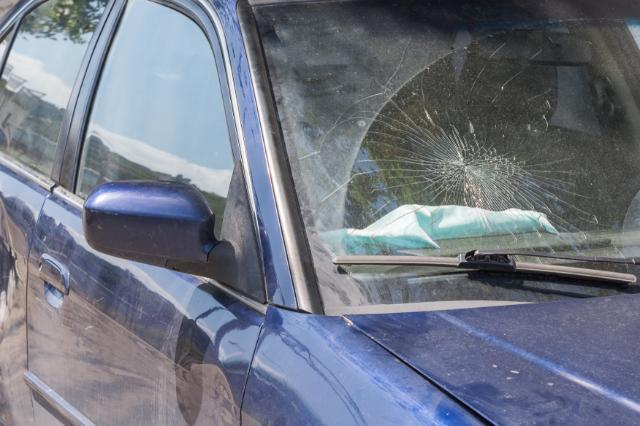Windshield: (268, 5, 618, 278)
